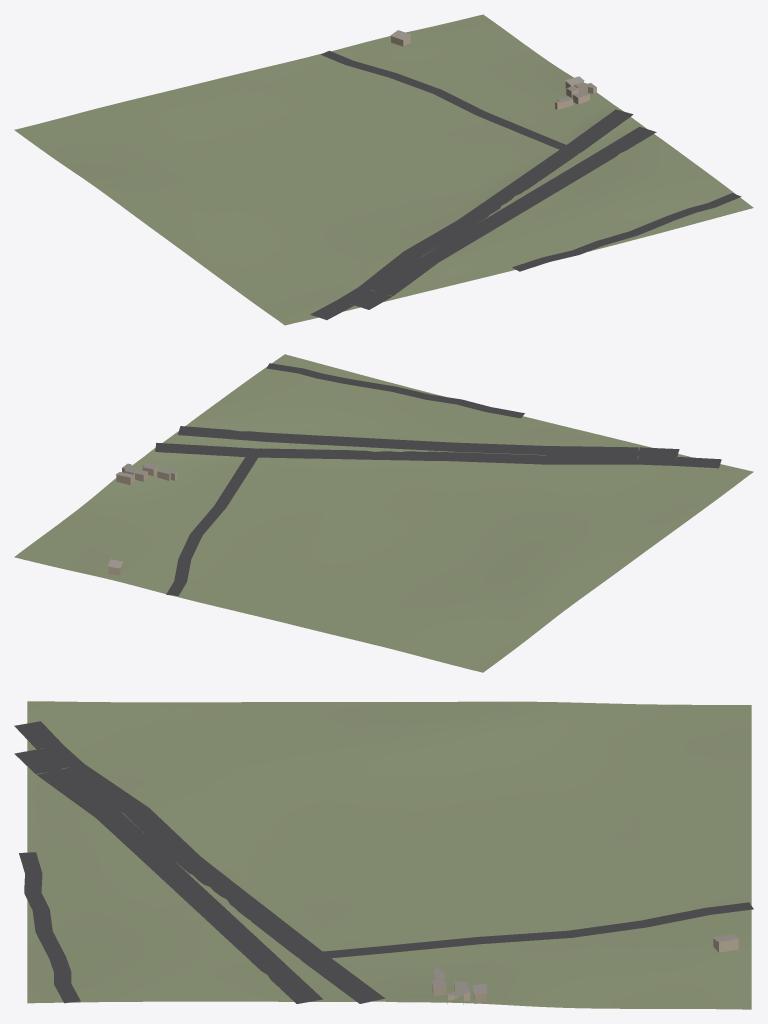
3 renders of one model, top to bottom at view 1: azimuth 30°, elevation 25°; view 2: azimuth 150°, elevation 25°; view 3: azimuth 270°, elevation 25°, orthographic. The views are drawn at different scales.
Visible parts, largest first — view 1: ground, road, walls; view 2: ground, road, walls; view 3: ground, road, walls.
Part boxes in pixels (x1=…): ground: x1=14, y1=14, x2=753, y2=325; road: x1=310, y1=50, x2=741, y2=319; walls: x1=391, y1=35, x2=596, y2=109; ground: x1=14, y1=354, x2=753, y2=672; road: x1=155, y1=363, x2=721, y2=595; walls: x1=108, y1=465, x2=177, y2=575; ground: x1=27, y1=701, x2=751, y2=1009; road: x1=14, y1=721, x2=753, y2=1003; walls: x1=432, y1=938, x2=738, y2=1004.
Size of the model in its own units: 252 by 6.15 by 255.
